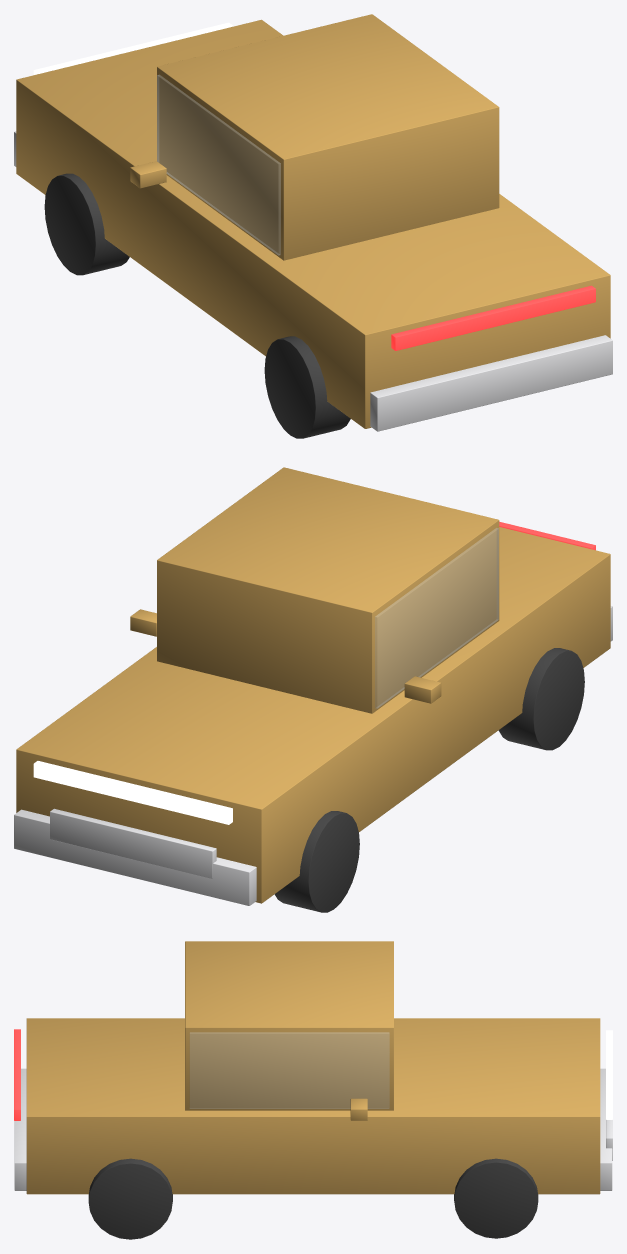
The model's file is vehicle.glb.
3 renders of one model, top to bottom at view 1: azimuth 30°, elevation 25°; view 2: azimuth 150°, elevation 25°; view 3: azimuth 270°, elevation 25°, orthographic. The views are drawn at different scales.
Parts seen in each view (by area): view 1: BODY_Main, BODY_Roof, GLASS_Greenhouse, BODY_Bumpers_Rear, WHEEL_RR_Tire, WHEEL_FR_Tire, LIGHT_Taillights, LIGHT_Headlights, BODY_Mirror_R; view 2: BODY_Main, BODY_Roof, GLASS_Greenhouse, BODY_Bumpers_Front, WHEEL_RR_Tire, BODY_Grille, WHEEL_FR_Tire, LIGHT_Headlights, BODY_Mirror_R, BODY_Mirror_L; view 3: BODY_Main, BODY_Roof, GLASS_Greenhouse, WHEEL_RL_Tire, WHEEL_FL_Tire, BODY_Bumpers_Rear, BODY_Bumpers_Front, LIGHT_Taillights, LIGHT_Headlights, BODY_Mirror_L.
Boxes of the visible parts, left/top/right/bottom form: BODY_Main: left=16, top=19, right=610, bottom=428; BODY_Roof: left=157, top=14, right=499, bottom=260; GLASS_Greenhouse: left=157, top=75, right=280, bottom=255; BODY_Bumpers_Rear: left=370, top=335, right=612, bottom=431; WHEEL_RR_Tire: left=264, top=336, right=350, bottom=438; WHEEL_FR_Tire: left=44, top=173, right=129, bottom=275; LIGHT_Taillights: left=391, top=285, right=595, bottom=350; LIGHT_Headlights: left=33, top=22, right=232, bottom=74; BODY_Mirror_R: left=130, top=161, right=166, bottom=188; BODY_Main: left=16, top=527, right=610, bottom=903; BODY_Roof: left=157, top=467, right=499, bottom=713; GLASS_Greenhouse: left=375, top=528, right=498, bottom=708; BODY_Bumpers_Front: left=14, top=809, right=256, bottom=905; WHEEL_RR_Tire: left=498, top=648, right=584, bottom=750; BODY_Grille: left=50, top=808, right=216, bottom=878; WHEEL_FR_Tire: left=274, top=811, right=359, bottom=912; LIGHT_Headlights: left=33, top=761, right=232, bottom=824; BODY_Mirror_R: left=404, top=676, right=441, bottom=703; BODY_Mirror_L: left=130, top=609, right=156, bottom=636; BODY_Main: left=26, top=1018, right=600, bottom=1194; BODY_Roof: left=185, top=941, right=393, bottom=1110; GLASS_Greenhouse: left=190, top=1032, right=389, bottom=1108; WHEEL_RL_Tire: left=88, top=1158, right=172, bottom=1239; WHEEL_FL_Tire: left=454, top=1158, right=538, bottom=1238; BODY_Bumpers_Rear: left=14, top=1068, right=26, bottom=1190; BODY_Bumpers_Front: left=600, top=1068, right=612, bottom=1190; LIGHT_Taillights: left=14, top=1029, right=20, bottom=1120; LIGHT_Headlights: left=606, top=1030, right=612, bottom=1119; BODY_Mirror_L: left=350, top=1098, right=367, bottom=1120.
Bounding box in the file's own units: 2.03 × 1.58 × 4.26.
